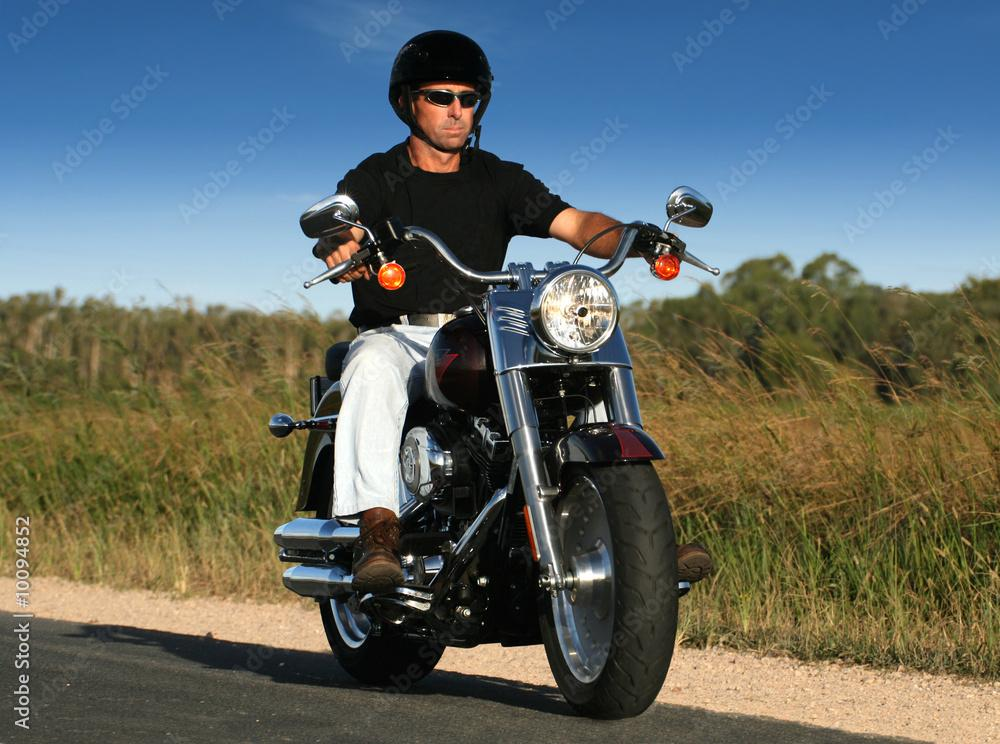helmet: (388, 28, 495, 159)
